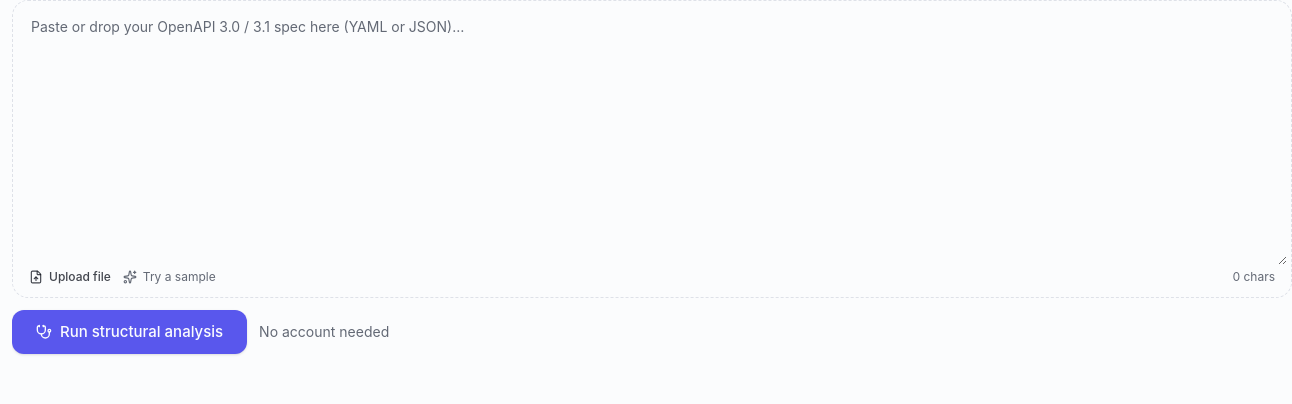
PasteForm › shows an error when the spec is empty
Click the button "Run structural analysis": (130, 332) 12,310 -> 247,354
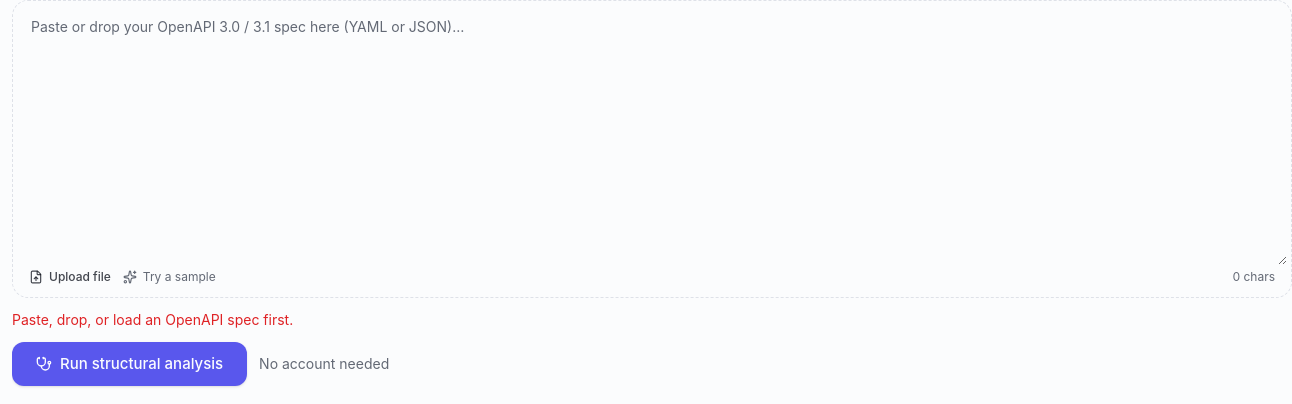
Check: the message "Paste, drop, or load an OpenAPI spec first." is shown, box 12,311 -> 293,328
